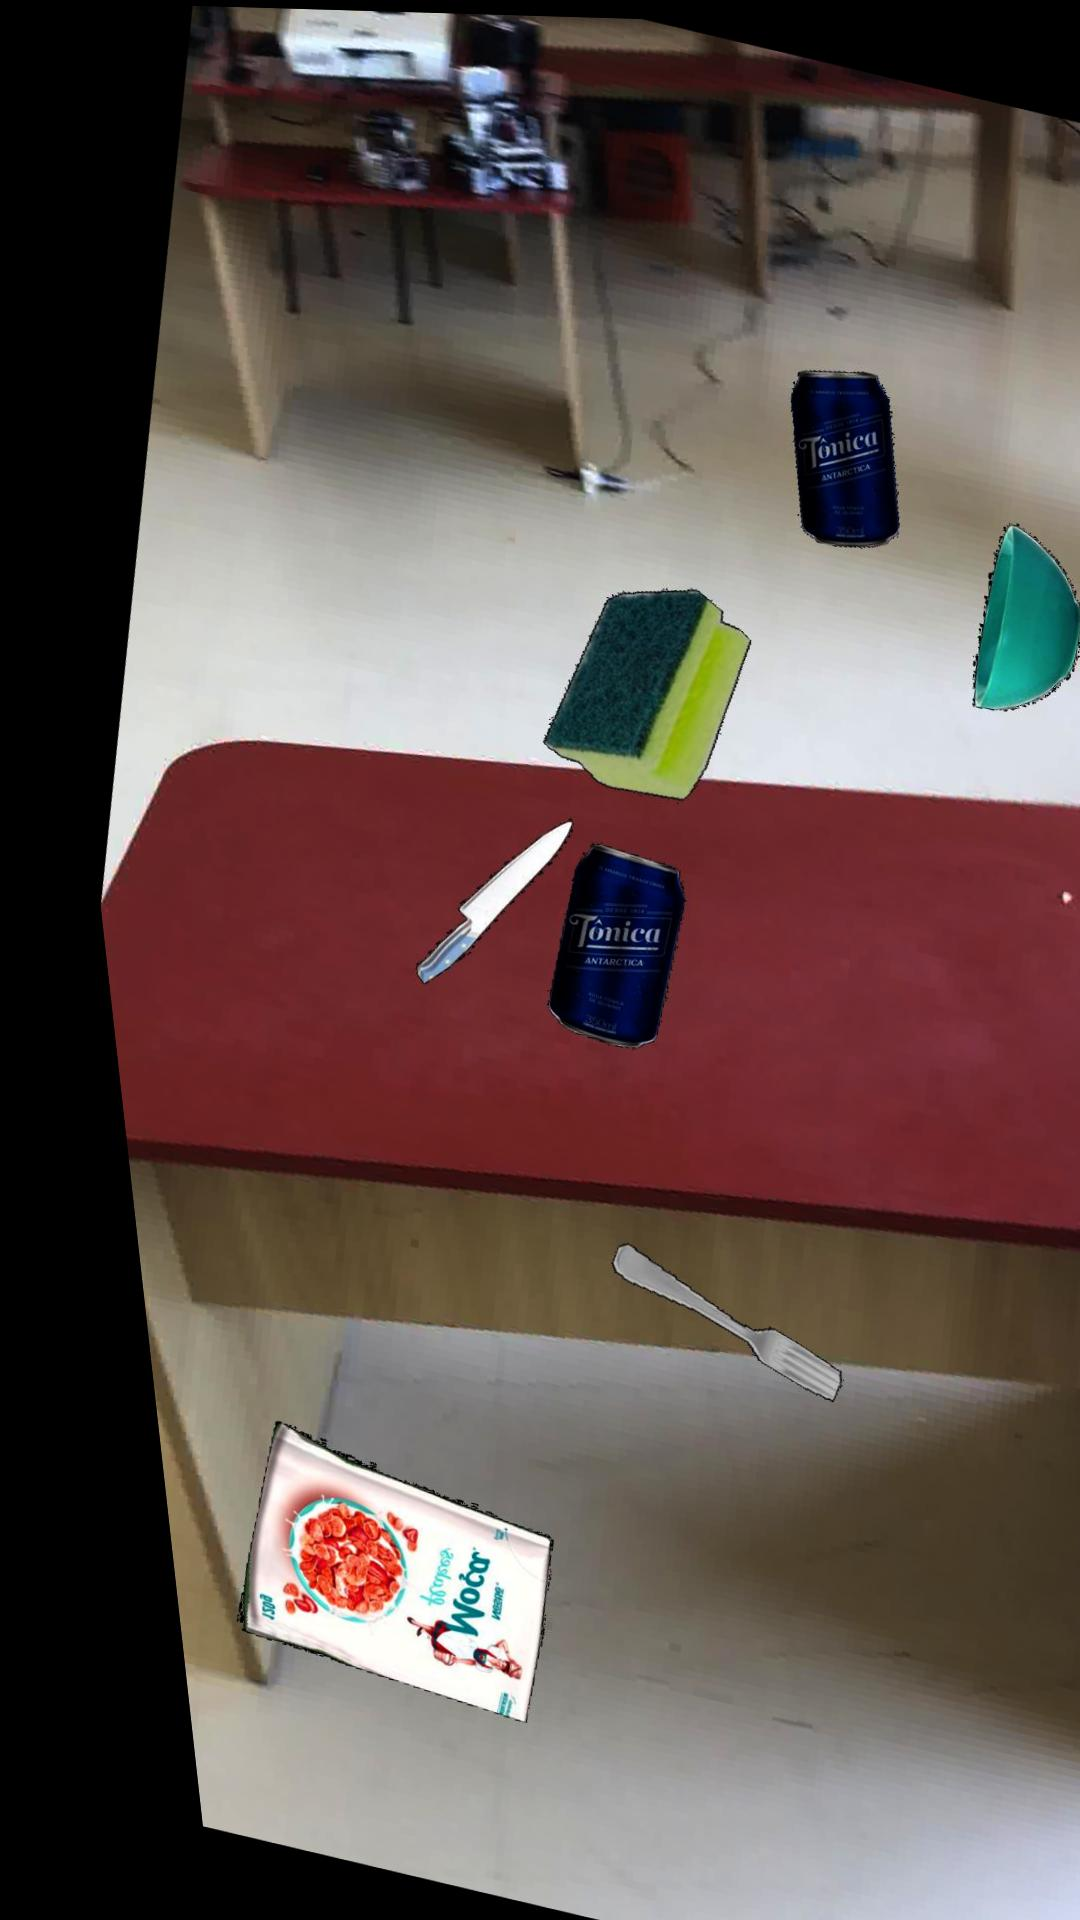bowl: (957, 518, 1069, 704)
corn flakes: (202, 1419, 518, 1720)
fork: (583, 1240, 811, 1396)
knife: (394, 816, 555, 981)
sponge: (527, 584, 737, 796)
tonic: (525, 839, 667, 1044), (783, 364, 889, 542)
